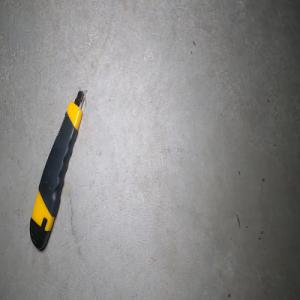Cutter: (28, 89, 86, 250)
